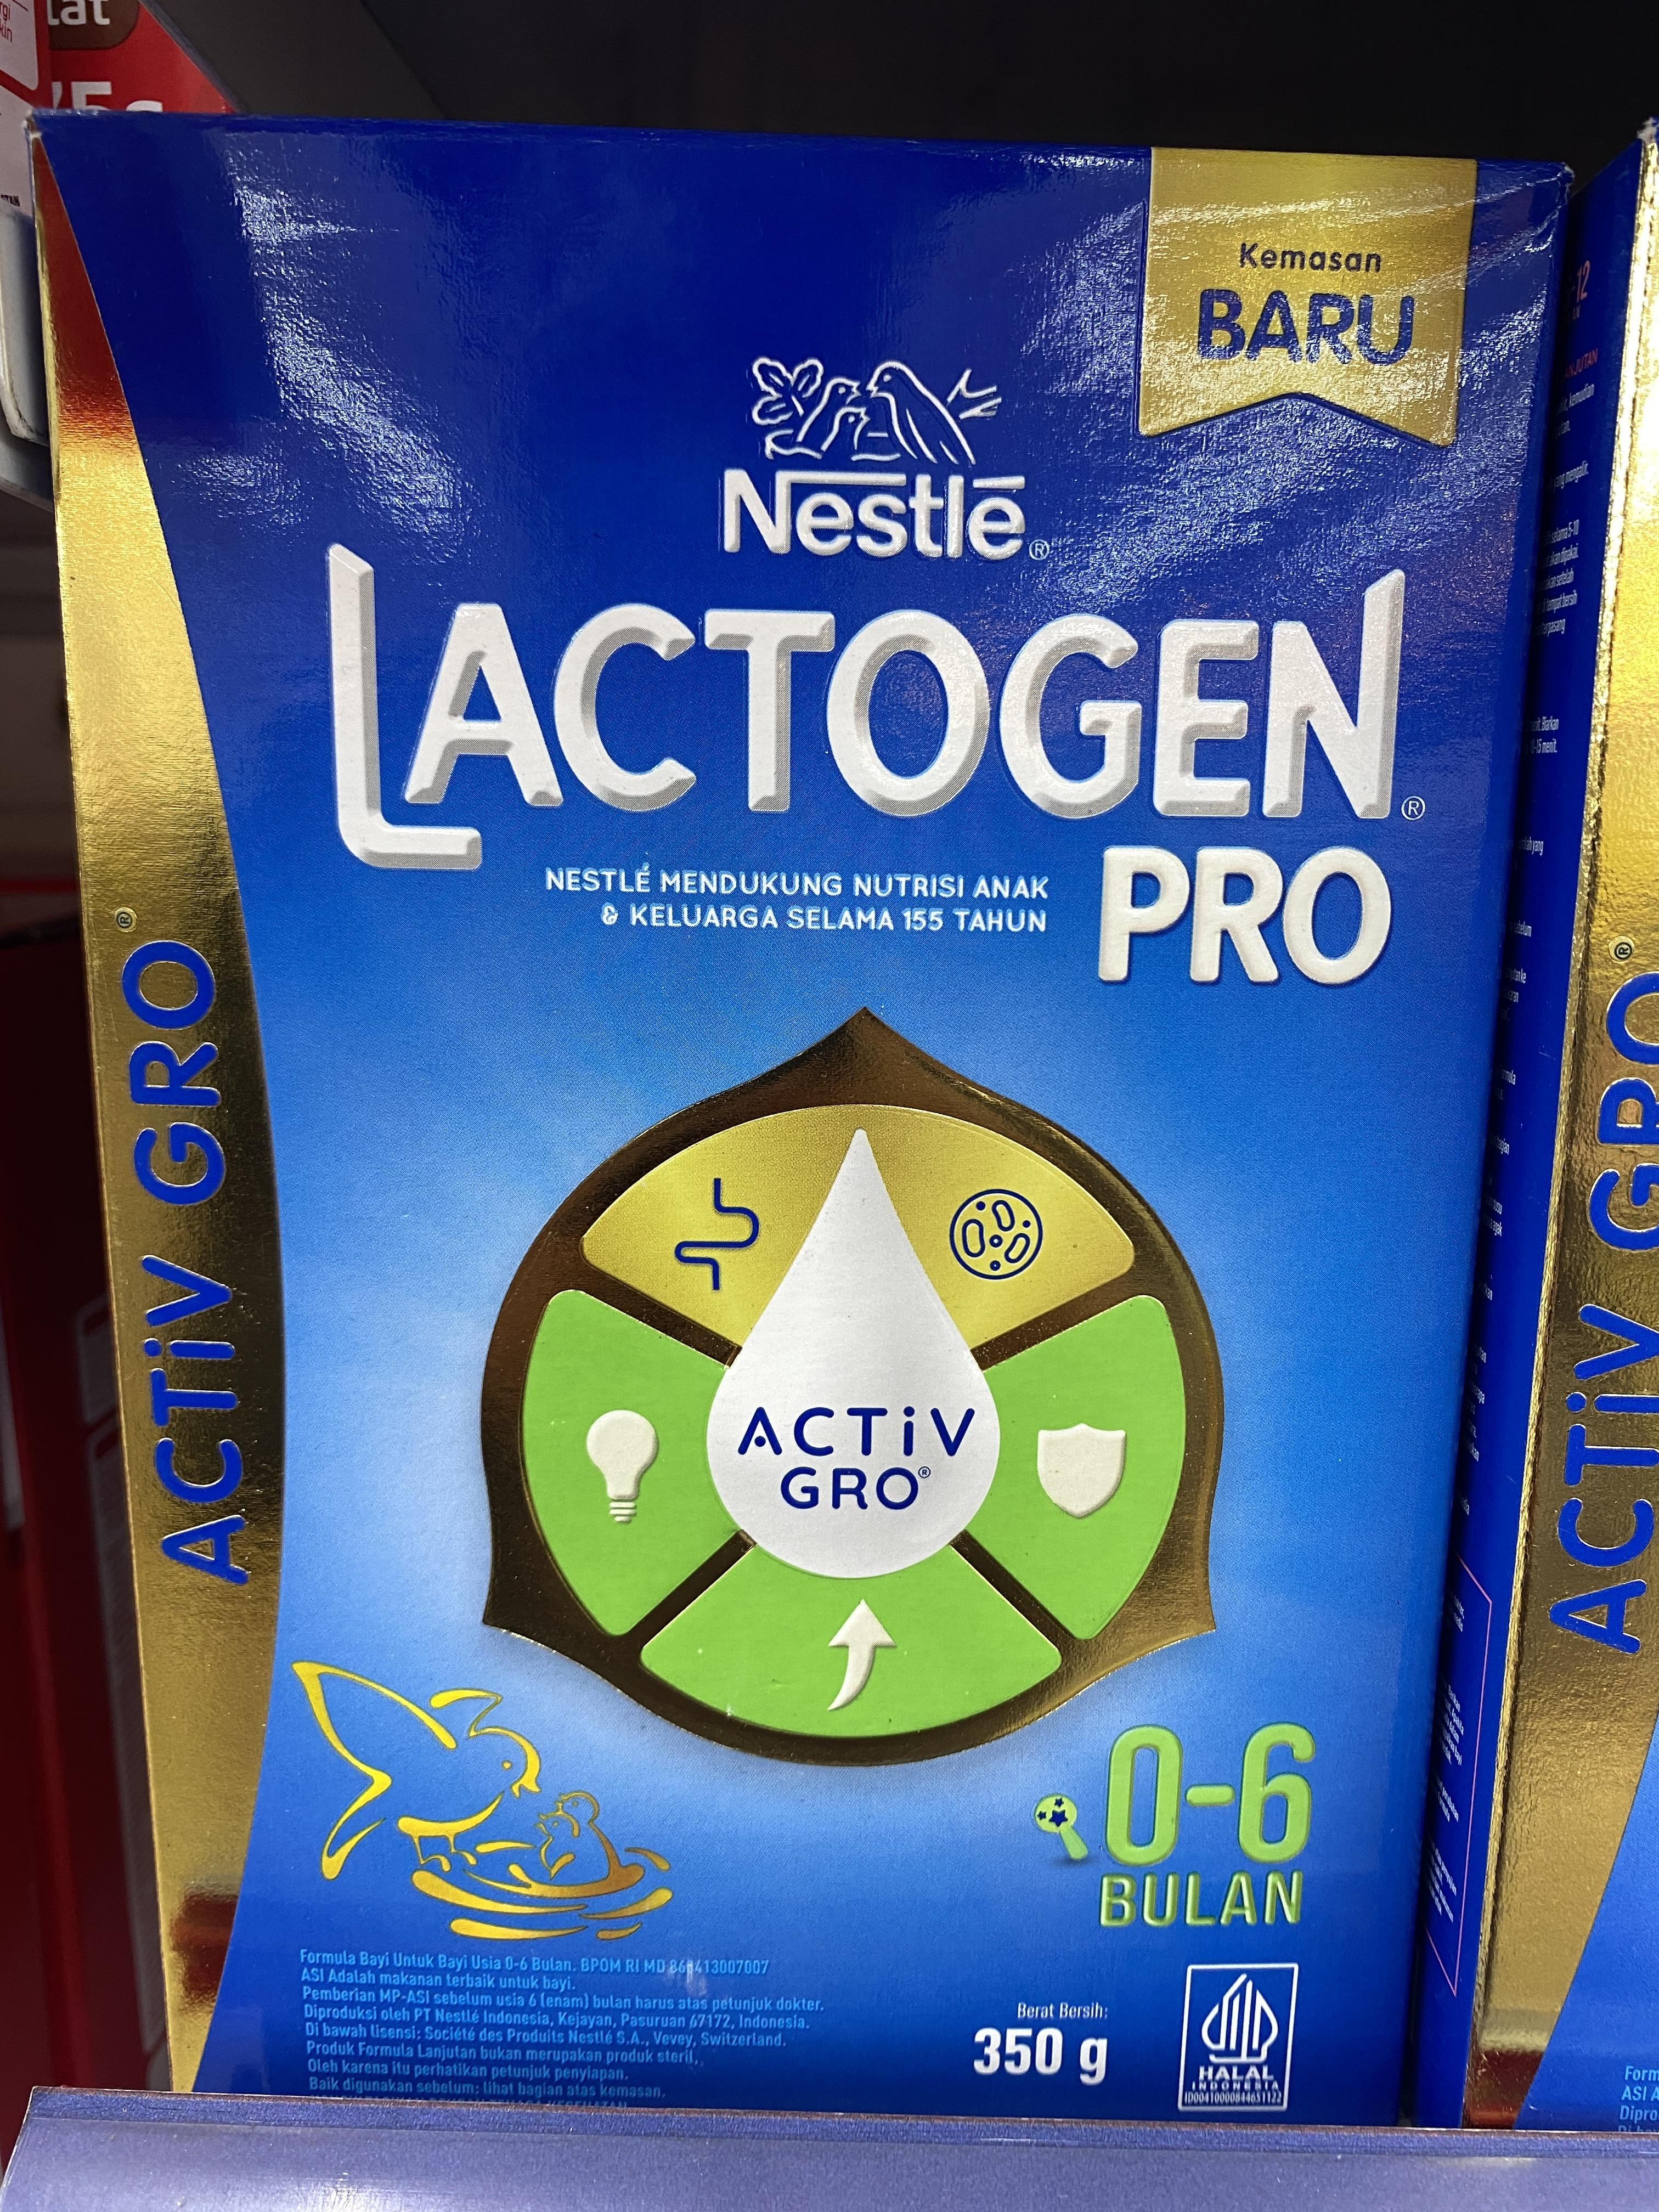LACTOGEN PRO 0-6 mo 12x1kg ID: (85, 120, 1563, 2127)
LACTOGROW 3 Happynutri Honey 12x1kg N1 ID_REDESIGN2: (56, 131, 1572, 2135)
LACTOGROW 3 Happynutri Van 12x1kg ID_REDESIGN2: (59, 131, 1560, 2139)
